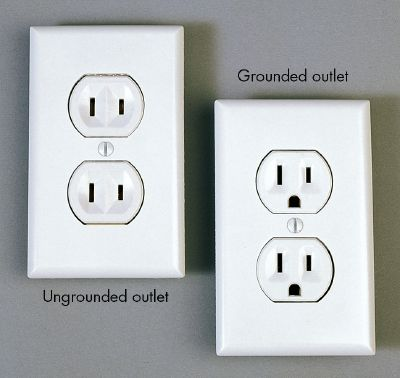outlet: (256, 236, 335, 304), (257, 149, 334, 215), (65, 160, 143, 225), (68, 74, 146, 138)
